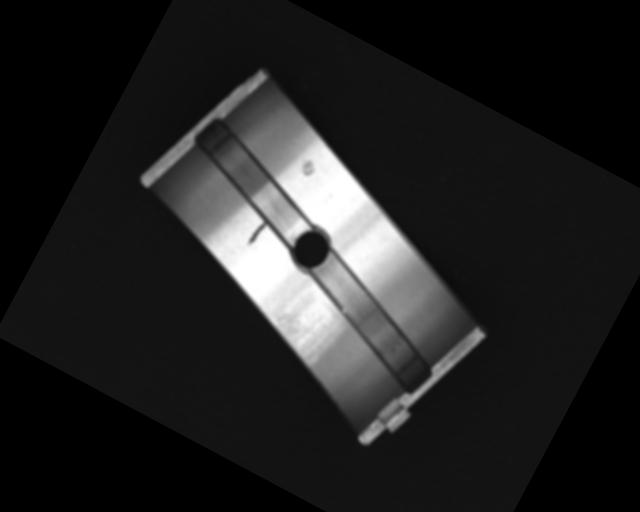bruise: (297, 157, 319, 180)
gap: (285, 248, 456, 391), (175, 116, 333, 244)
hole: (285, 222, 336, 274)
nick: (244, 217, 268, 251)
scratch: (260, 291, 343, 378)
